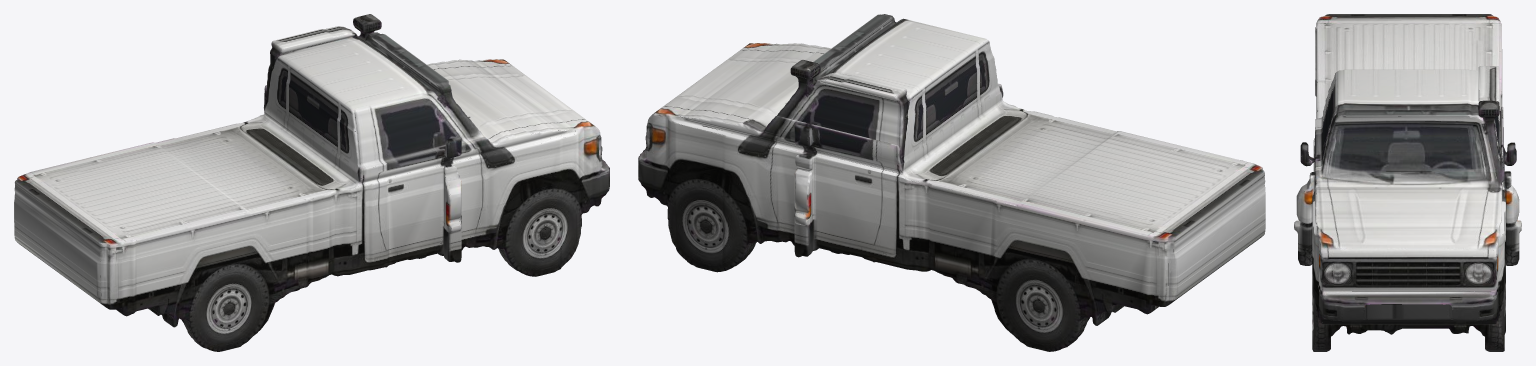
The model's file is shas_mobile.glb.
The picture shows the model from 3 angles, left to right: view 1: azimuth 30°, elevation 25°; view 2: azimuth 150°, elevation 25°; view 3: azimuth 270°, elevation 25°; orthographic projection. The views are drawn at different scales.
Parts seen in each view (by area): view 1: shas; view 2: shas; view 3: shas.
Boxes of the visible parts, x1=… form: shas: x1=14, y1=14, x2=609, y2=351; shas: x1=638, y1=14, x2=1265, y2=351; shas: x1=1294, y1=14, x2=1521, y2=351.
Size of the model in its own units: 5.22 by 2.04 by 2.08.
1 material, 1 textured.
